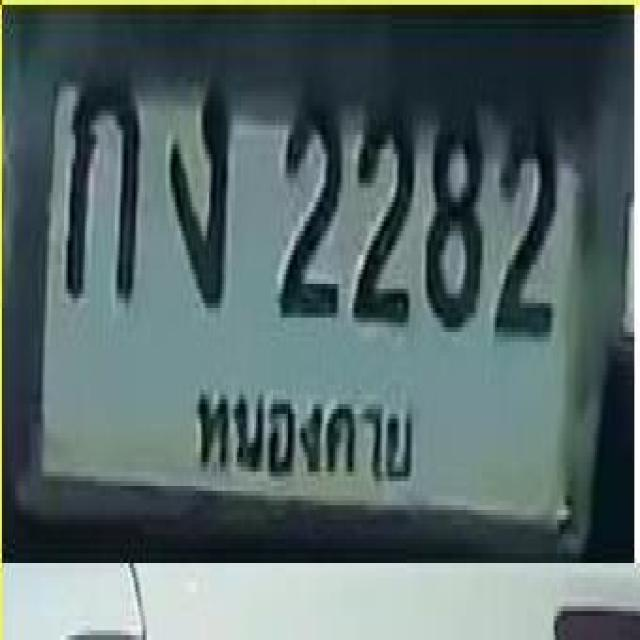license_plate: (21, 13, 576, 553)
